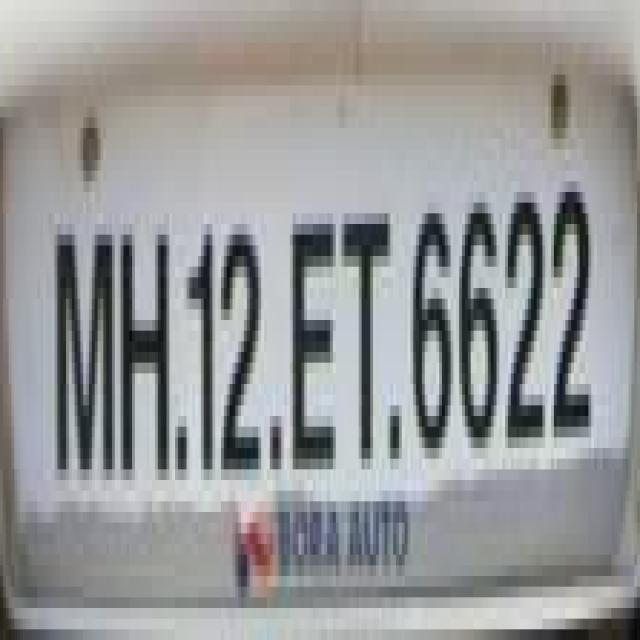plate: (3, 21, 611, 587)
